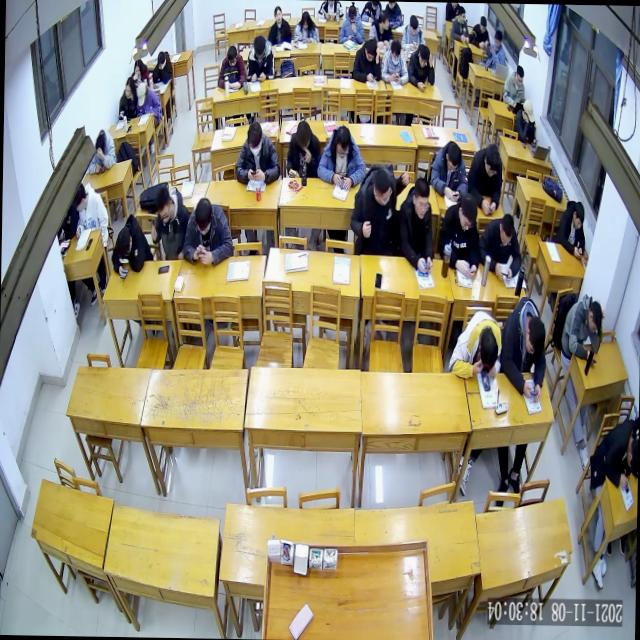bow: (448, 308, 502, 377), (182, 198, 233, 266), (110, 214, 152, 279), (136, 83, 162, 124), (91, 130, 115, 174), (152, 49, 172, 82)
down: (478, 329, 498, 372), (524, 316, 546, 354), (412, 178, 429, 217), (194, 200, 212, 236), (458, 200, 477, 230), (246, 122, 262, 156), (483, 144, 499, 176), (498, 214, 514, 246), (587, 301, 602, 334), (334, 125, 349, 157), (157, 187, 170, 223), (625, 438, 638, 474), (116, 228, 132, 254), (296, 122, 310, 150), (446, 144, 458, 172), (572, 202, 584, 230), (73, 187, 85, 212), (253, 37, 266, 57), (364, 40, 376, 61), (417, 46, 429, 66), (94, 134, 105, 154), (136, 84, 146, 106), (390, 42, 400, 64), (408, 16, 418, 36), (226, 48, 236, 66), (515, 66, 524, 86), (347, 4, 356, 22), (157, 50, 165, 70), (124, 79, 132, 98), (494, 30, 502, 48), (300, 12, 308, 28), (479, 16, 486, 32), (134, 63, 140, 76), (370, 2, 378, 8)
lookup: (273, 5, 282, 22)
sit: (350, 163, 408, 255), (498, 296, 546, 401), (396, 178, 434, 272), (589, 423, 638, 490), (439, 200, 481, 278), (316, 124, 366, 189), (560, 294, 606, 362), (480, 212, 522, 282), (235, 122, 281, 184), (150, 187, 188, 260), (467, 144, 502, 216), (430, 138, 468, 200), (286, 118, 320, 176), (555, 198, 586, 258), (73, 184, 108, 237), (246, 34, 275, 84), (408, 44, 435, 92), (217, 44, 245, 89), (352, 40, 382, 82), (382, 39, 408, 84), (514, 100, 538, 146), (368, 10, 394, 48), (400, 13, 426, 50), (338, 5, 364, 42), (267, 6, 292, 44), (502, 64, 524, 106), (484, 29, 506, 67), (119, 75, 138, 118), (294, 12, 318, 42), (450, 5, 469, 42), (469, 15, 490, 48), (130, 60, 148, 83)
